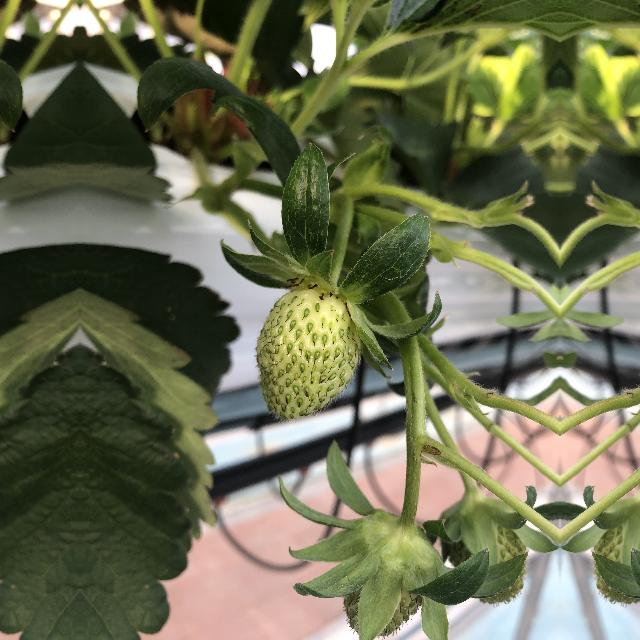Health_25: (253, 283, 371, 425)
